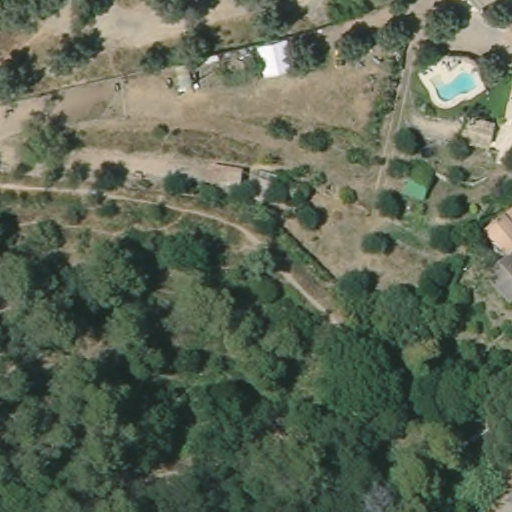pool: (427, 69, 480, 105)
